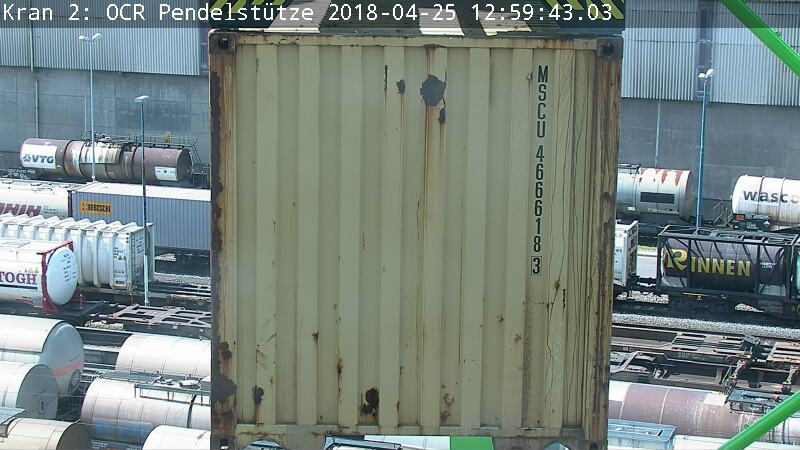container_no_door: (202, 31, 610, 450)
